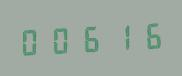one: (105, 19, 133, 53)
six: (76, 20, 104, 55), (134, 17, 162, 52)
zero: (18, 23, 46, 58), (47, 22, 75, 56)
